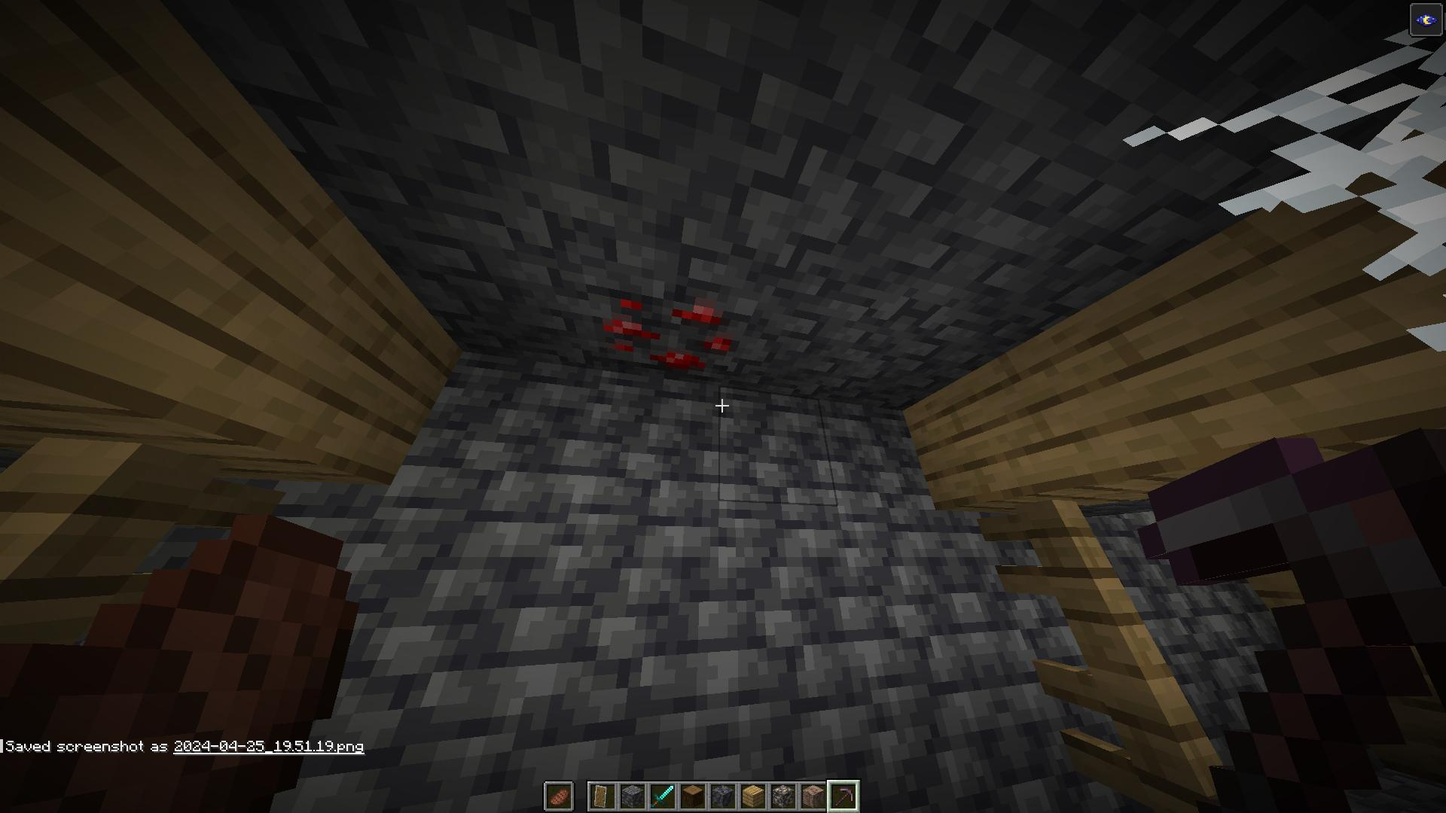redstone ore: (601, 288, 739, 381)
